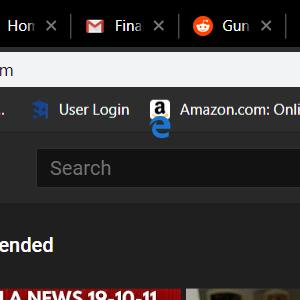edge: (149, 116, 171, 139)
